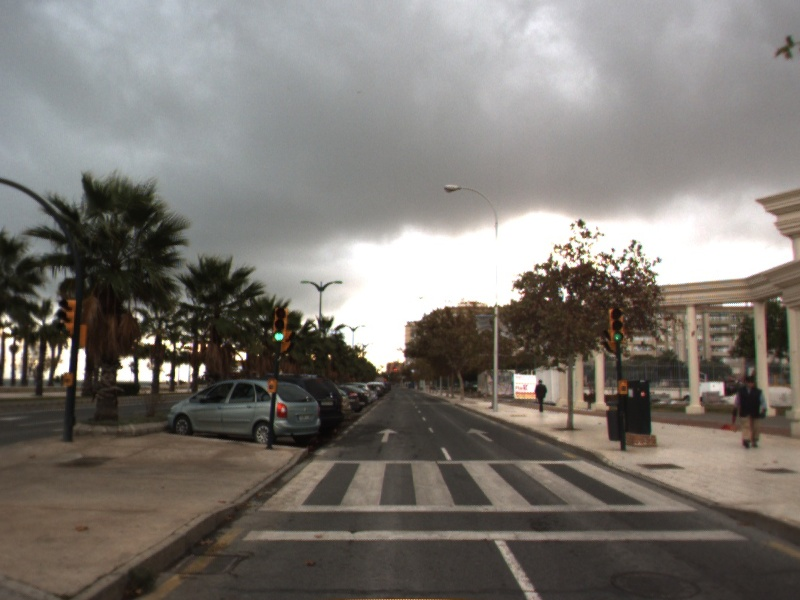STRAIGHT: (465, 426, 496, 443), (375, 427, 400, 444)
